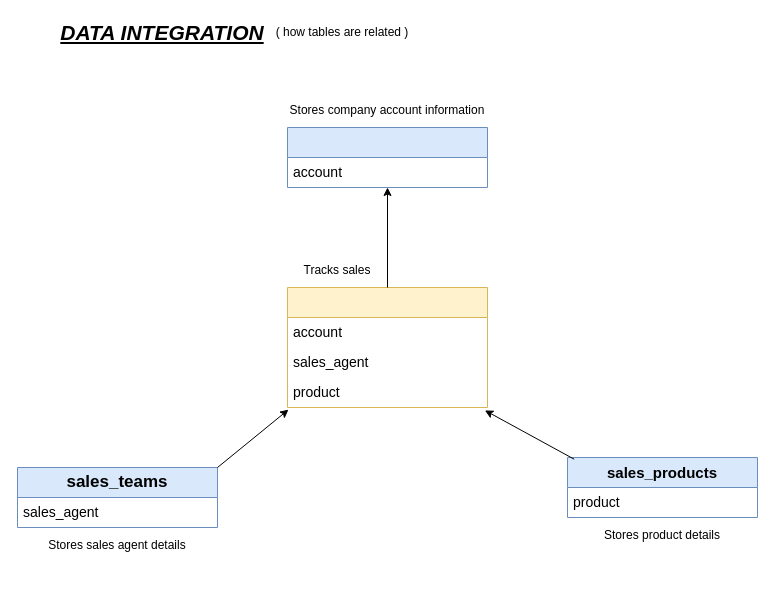
This 775x598 diagram has some shape labels left out. The box of each missing label's shape, as (x1, y1, x2, y2) in pixels:
accounts: (286, 126, 488, 188)
sales_pipeline: (286, 286, 488, 408)
